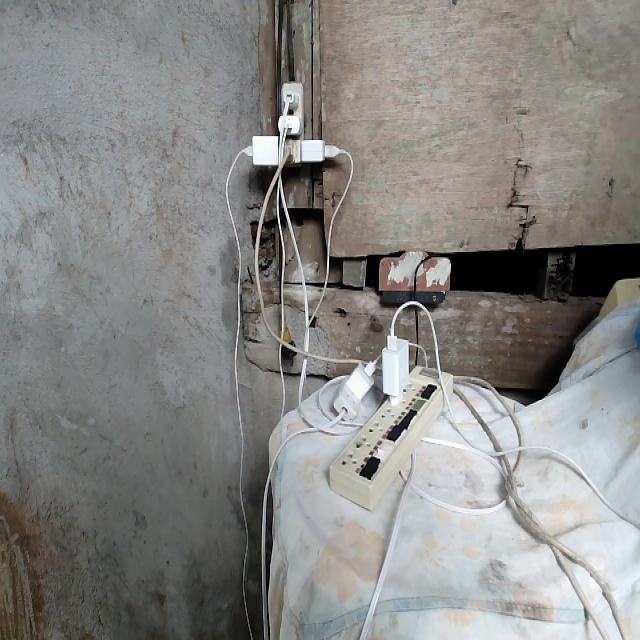-: (234, 80, 351, 165)
